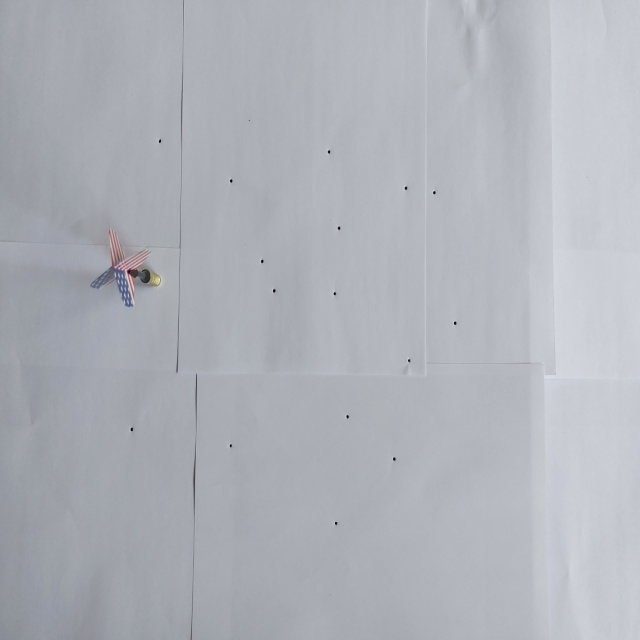Dart: (88, 226, 168, 310)
